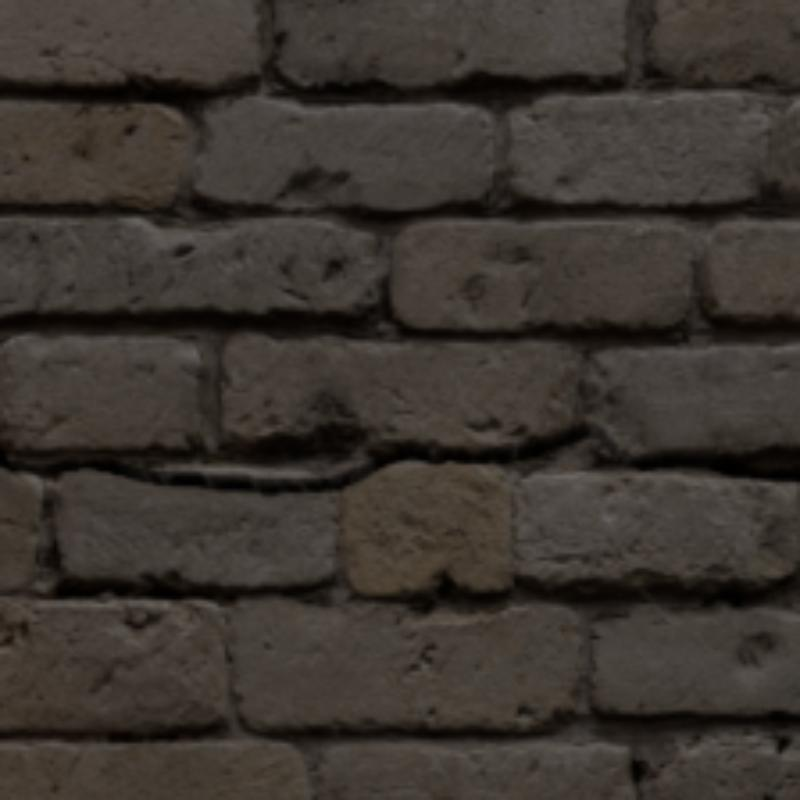pothole: (0, 421, 796, 493)
